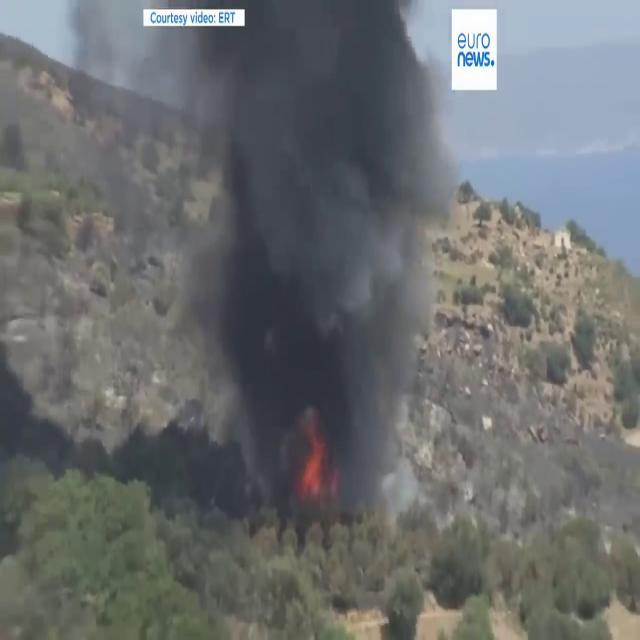Fire: (293, 406, 334, 504)
Smoke: (158, 1, 464, 516)
